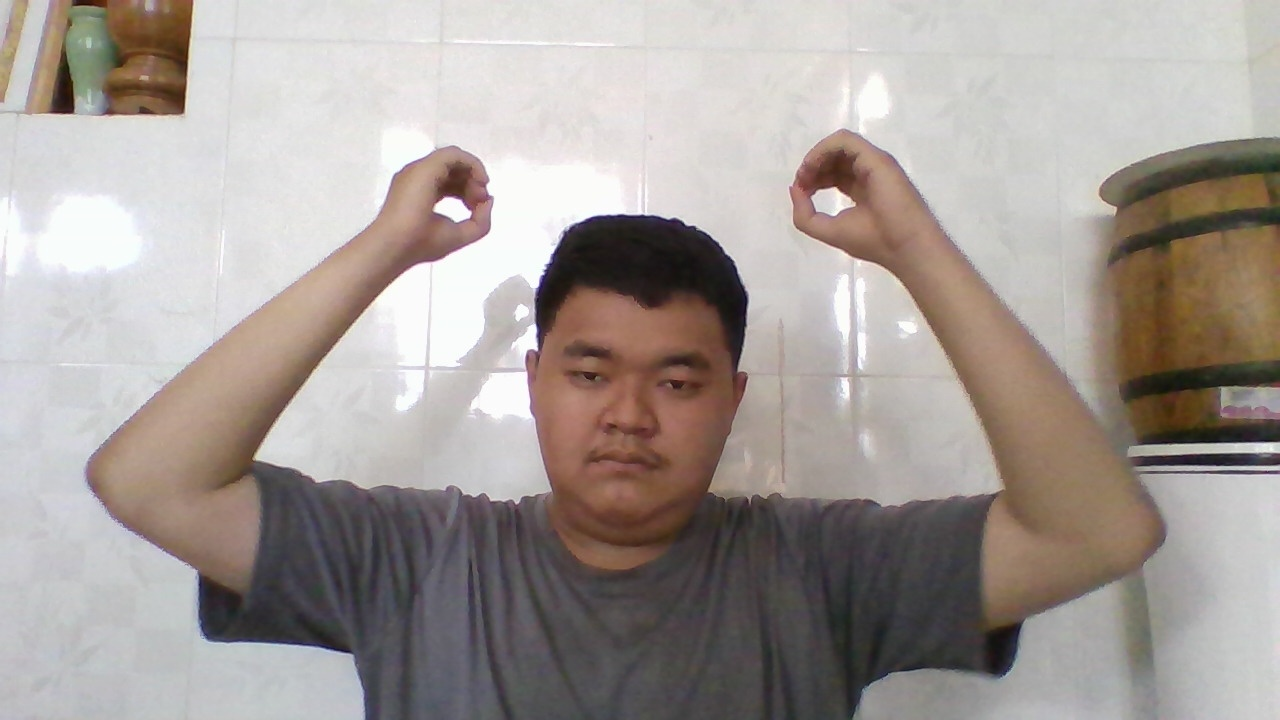O: (778, 123, 920, 261), (385, 137, 502, 261)
